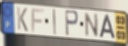A: (99, 14, 117, 41)
F: (31, 8, 46, 34)
I: (52, 8, 57, 36)
K: (16, 6, 29, 33)
N: (85, 12, 100, 38)
P: (64, 9, 80, 38)
